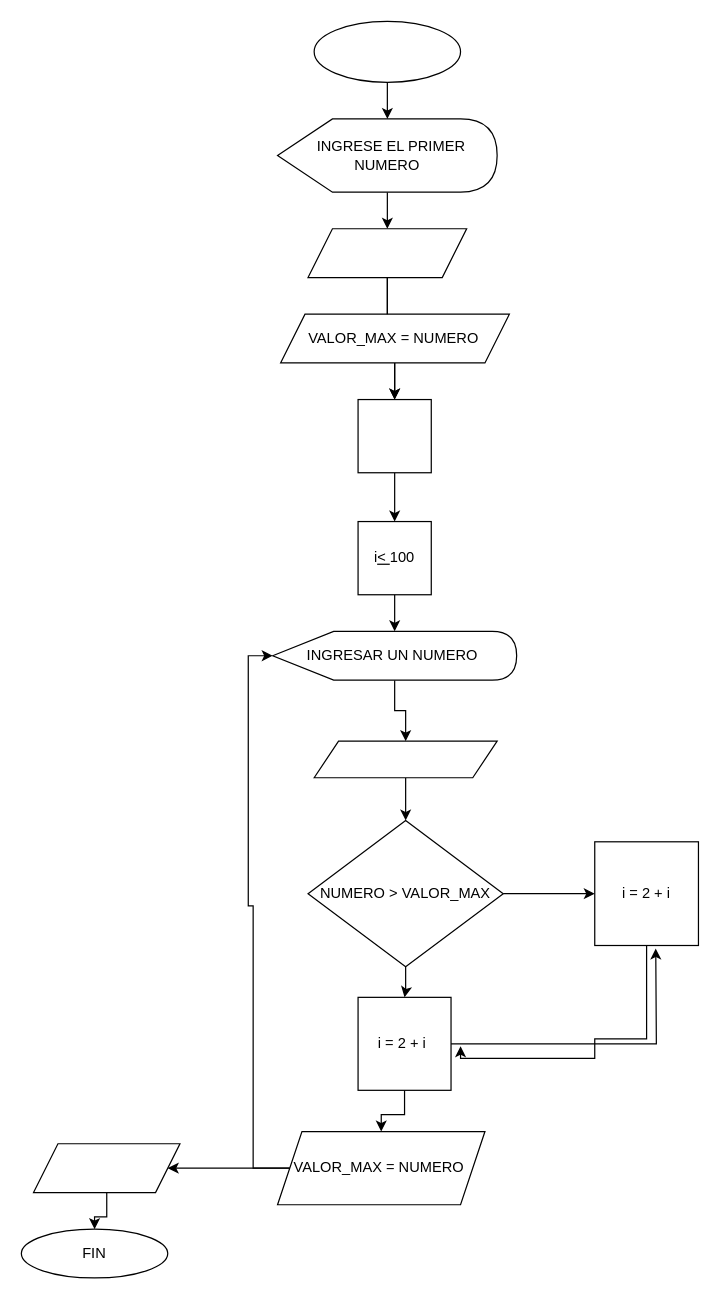
Some shapes in this 720 by 1299 pixel diagram are drawn without their labels. Here are the shapes that lost their labels. From the top down, the box of each, then its label:
(313, 20, 461, 82): INICIO
(307, 228, 467, 278): LEER_NUMERO
(357, 398, 431, 473): i = 1
(313, 740, 497, 778): LEER_NUMRERO
(32, 1143, 180, 1193): MOSTRAR MAYOR
